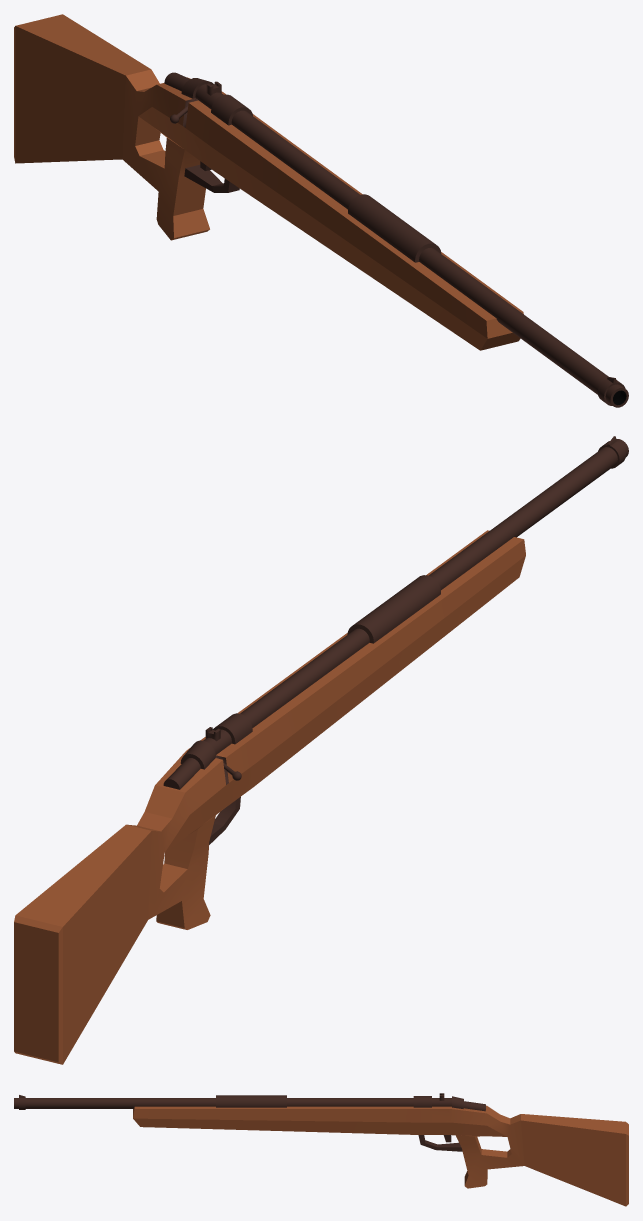
Rendered from Riffle.fbx.
3 renders of one model, top to bottom at view 1: azimuth 30°, elevation 25°; view 2: azimuth 150°, elevation 25°; view 3: azimuth 270°, elevation 25°, orthographic. The views are drawn at different scales.
Visible parts, largest first — view 1: Riffle; view 2: Riffle; view 3: Riffle.
Part boxes in pixels (x1=…): Riffle: x1=14, y1=14, x2=628, y2=407; Riffle: x1=14, y1=436, x2=628, y2=1064; Riffle: x1=14, y1=1093, x2=628, y2=1206.
Size of the model in its own units: 7.78 by 25.46 by 134.
